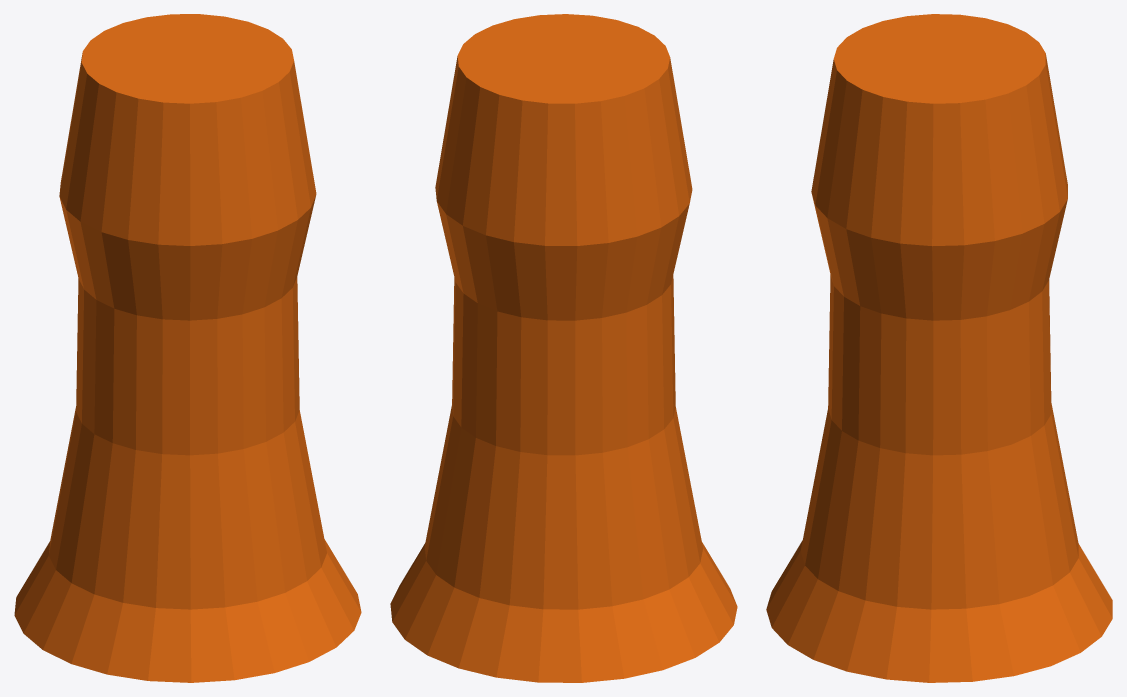
File: Wood2.fbx
The picture shows the model from 3 angles, left to right: view 1: azimuth 30°, elevation 25°; view 2: azimuth 150°, elevation 25°; view 3: azimuth 270°, elevation 25°; orthographic projection.
Parts seen in each view (by area): view 1: Wood2; view 2: Wood2; view 3: Wood2.
Part boxes in pixels (bbox=[...]): Wood2: bbox=[14, 14, 361, 682]; Wood2: bbox=[390, 14, 737, 682]; Wood2: bbox=[766, 14, 1112, 682].
Bounding box in the file's own units: 1.4 × 1.39 × 2.45.
